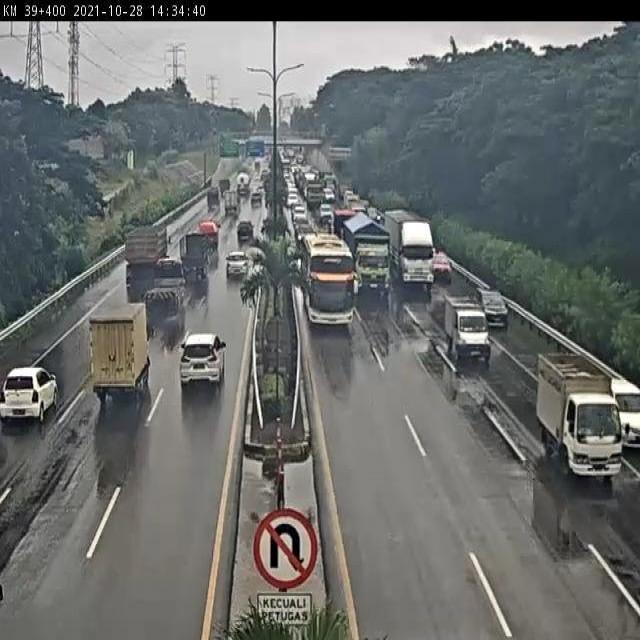big bus: (297, 234, 359, 338)
big truck: (342, 213, 390, 299), (392, 212, 432, 299), (125, 228, 169, 296), (450, 273, 456, 279), (445, 279, 454, 281)
car: (535, 355, 625, 489), (438, 297, 495, 373), (0, 369, 58, 431), (178, 333, 229, 396), (620, 377, 640, 460), (481, 290, 510, 330), (225, 251, 249, 285), (198, 219, 219, 249), (434, 252, 451, 285), (235, 221, 253, 244), (223, 192, 238, 215), (205, 186, 219, 206), (250, 188, 264, 207), (293, 205, 307, 223), (320, 204, 332, 220), (36, 363, 40, 373)
small truck: (90, 304, 154, 413), (146, 259, 191, 321), (179, 236, 213, 284), (336, 207, 347, 237), (162, 258, 168, 262), (560, 453, 562, 463), (155, 227, 167, 228)
